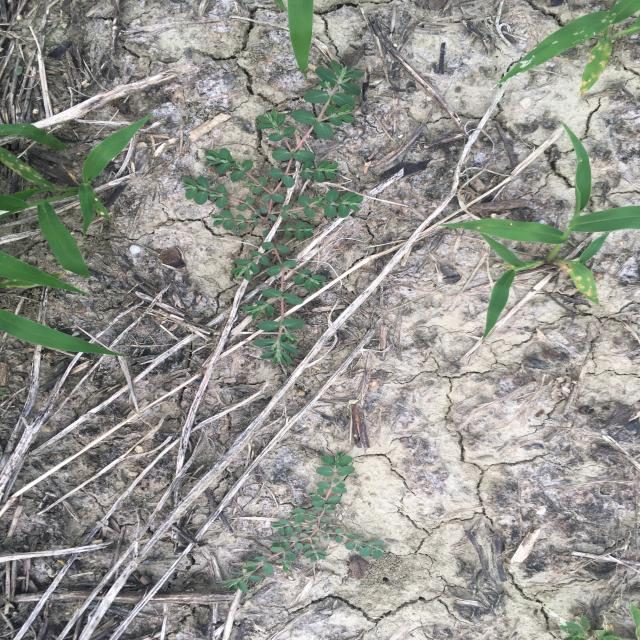SpottedSpurge: (181, 58, 367, 366), (218, 449, 390, 594)
